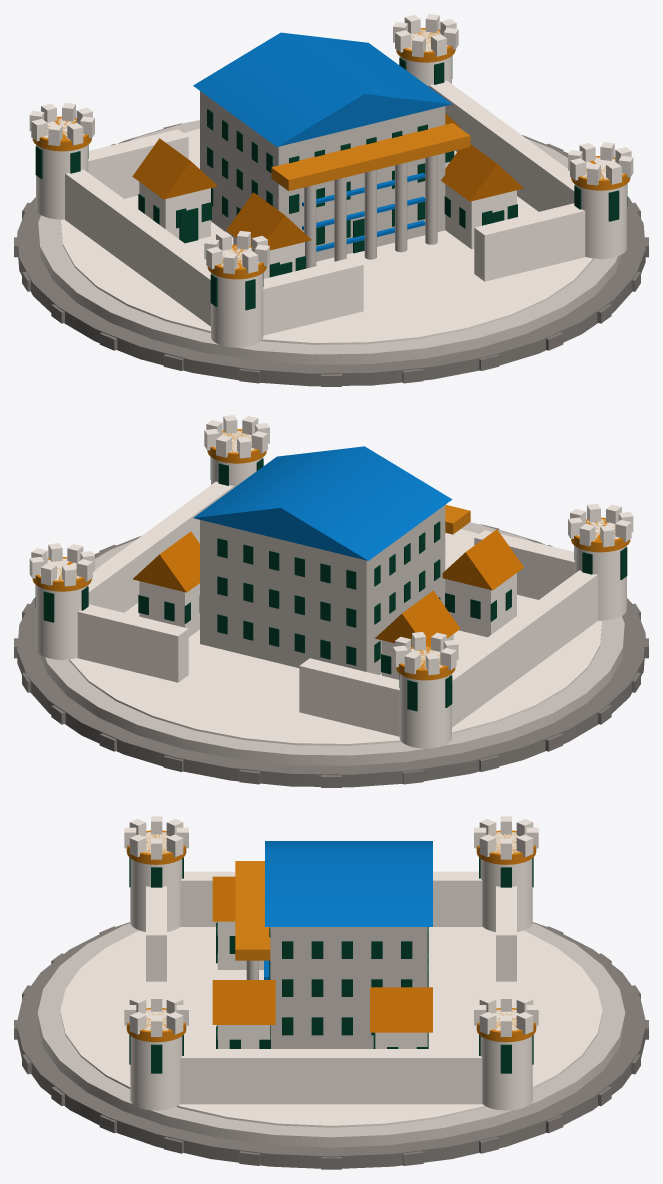
The model's file is city_documents.glb.
3 views of the same model, one above another, from view 1: azimuth 30°, elevation 25°; view 2: azimuth 150°, elevation 25°; view 3: azimuth 270°, elevation 25° (orthographic).
Visible parts, largest first — view 1: city-floor_grey, curtain-wall_white, corner-tower_white, archive-hall_green, lower-plinth_stone, upper-plinth_white, archive-hall_white, gate-wall_white, courtyard-building_green, archive-column_white, archive-pediment_white, courtyard-building_white (+6 smaller); view 2: curtain-wall_white, archive-hall_white, city-floor_grey, corner-tower_white, archive-hall_green, lower-plinth_stone, upper-plinth_white, courtyard-building_green, archive-hall_darkgreen, courtyard-building_white, plinth-tooth_stone, gate-wall_white (+4 smaller); view 3: city-floor_grey, curtain-wall_white, corner-tower_white, upper-plinth_white, lower-plinth_stone, archive-hall_green, archive-hall_white, courtyard-building_green, archive-pediment_white, plinth-tooth_stone, courtyard-building_white, archive-hall_darkgreen (+4 smaller).
Boxes of the visible parts, x1=… form: city-floor_grey: x1=61, y1=128, x2=593, y2=344; curtain-wall_white: x1=65, y1=80, x2=574, y2=326; corner-tower_white: x1=29, y1=14, x2=633, y2=347; archive-hall_green: x1=193, y1=32, x2=451, y2=146; lower-plinth_stone: x1=17, y1=125, x2=645, y2=386; upper-plinth_white: x1=38, y1=120, x2=622, y2=364; archive-hall_white: x1=200, y1=91, x2=445, y2=261; gate-wall_white: x1=263, y1=203, x2=585, y2=335; courtyard-building_green: x1=132, y1=113, x2=523, y2=250; archive-column_white: x1=304, y1=155, x2=437, y2=268; archive-pediment_white: x1=271, y1=123, x2=470, y2=190; courtyard-building_white: x1=139, y1=162, x2=516, y2=278; curtain-wall_white: x1=77, y1=481, x2=597, y2=736; archive-hall_white: x1=200, y1=505, x2=445, y2=674; city-floor_grey: x1=69, y1=529, x2=601, y2=745; corner-tower_white: x1=29, y1=415, x2=633, y2=748; archive-hall_green: x1=193, y1=446, x2=452, y2=560; lower-plinth_stone: x1=17, y1=526, x2=645, y2=787; upper-plinth_white: x1=40, y1=522, x2=624, y2=765; courtyard-building_green: x1=132, y1=529, x2=523, y2=647; archive-hall_darkgreen: x1=217, y1=521, x2=440, y2=665; courtyard-building_white: x1=139, y1=573, x2=516, y2=679; plinth-tooth_stone: x1=14, y1=524, x2=648, y2=787; gate-wall_white: x1=474, y1=530, x2=574, y2=599; city-floor_grey: x1=60, y1=927, x2=602, y2=1127; curtain-wall_white: x1=180, y1=871, x2=516, y2=1104; corner-tower_white: x1=124, y1=816, x2=538, y2=1110; upper-plinth_white: x1=37, y1=923, x2=625, y2=1147; lower-plinth_stone: x1=16, y1=922, x2=646, y2=1168; archive-hall_green: x1=265, y1=841, x2=432, y2=926; archive-hall_white: x1=270, y1=927, x2=427, y2=1048; courtyard-building_green: x1=212, y1=876, x2=432, y2=1032; archive-pediment_white: x1=235, y1=861, x2=270, y2=960; plinth-tooth_stone: x1=14, y1=926, x2=648, y2=1169; courtyard-building_white: x1=217, y1=921, x2=427, y2=1048; archive-hall_darkgreen: x1=269, y1=927, x2=428, y2=1035.
Bounding box in the file's own units: 23.59 × 7.54 × 23.59.
